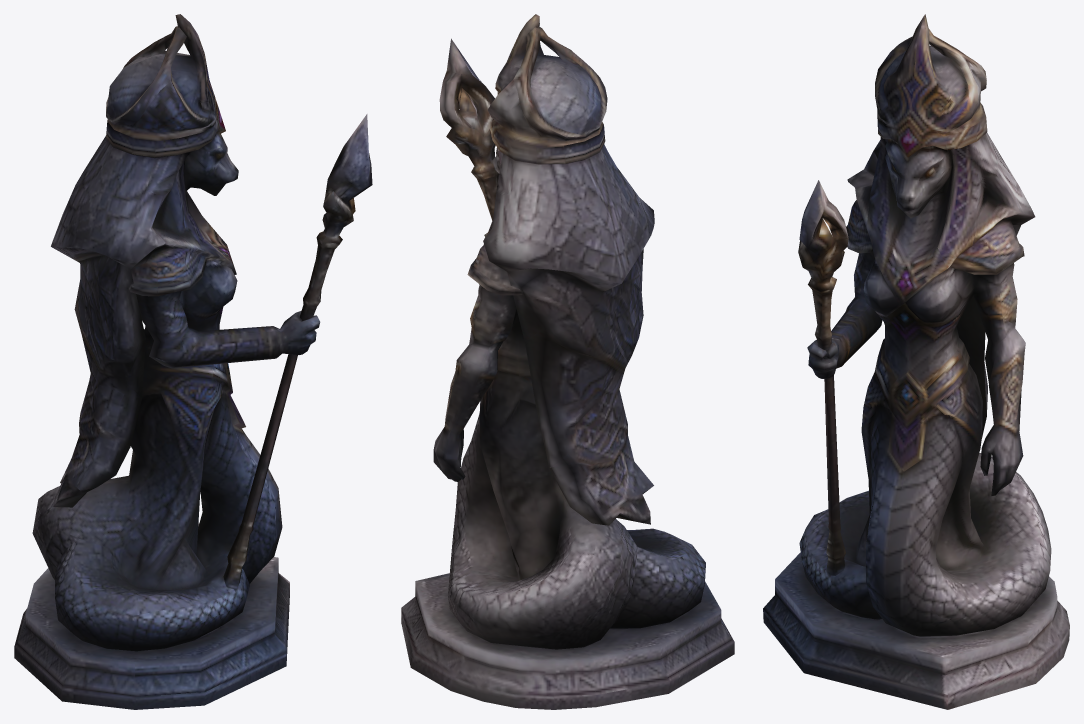
The model's file is serpent_statue.glb.
3 renders of one model, left to right at view 1: azimuth 30°, elevation 25°; view 2: azimuth 150°, elevation 25°; view 3: azimuth 270°, elevation 25°, orthographic. The views are drawn at different scales.
Visible parts, largest first — view 1: a3e7f29f_5391_4fd2_a2e5_2c399e7bead9; view 2: a3e7f29f_5391_4fd2_a2e5_2c399e7bead9; view 3: a3e7f29f_5391_4fd2_a2e5_2c399e7bead9.
Part boxes in pixels (x1,y1,x2,y2): a3e7f29f_5391_4fd2_a2e5_2c399e7bead9: (14, 14, 372, 709); a3e7f29f_5391_4fd2_a2e5_2c399e7bead9: (401, 14, 734, 709); a3e7f29f_5391_4fd2_a2e5_2c399e7bead9: (763, 14, 1069, 709).
Bounding box in the file's own units: 1.29 × 2.6 × 1.14.
1 material, 1 textured.
